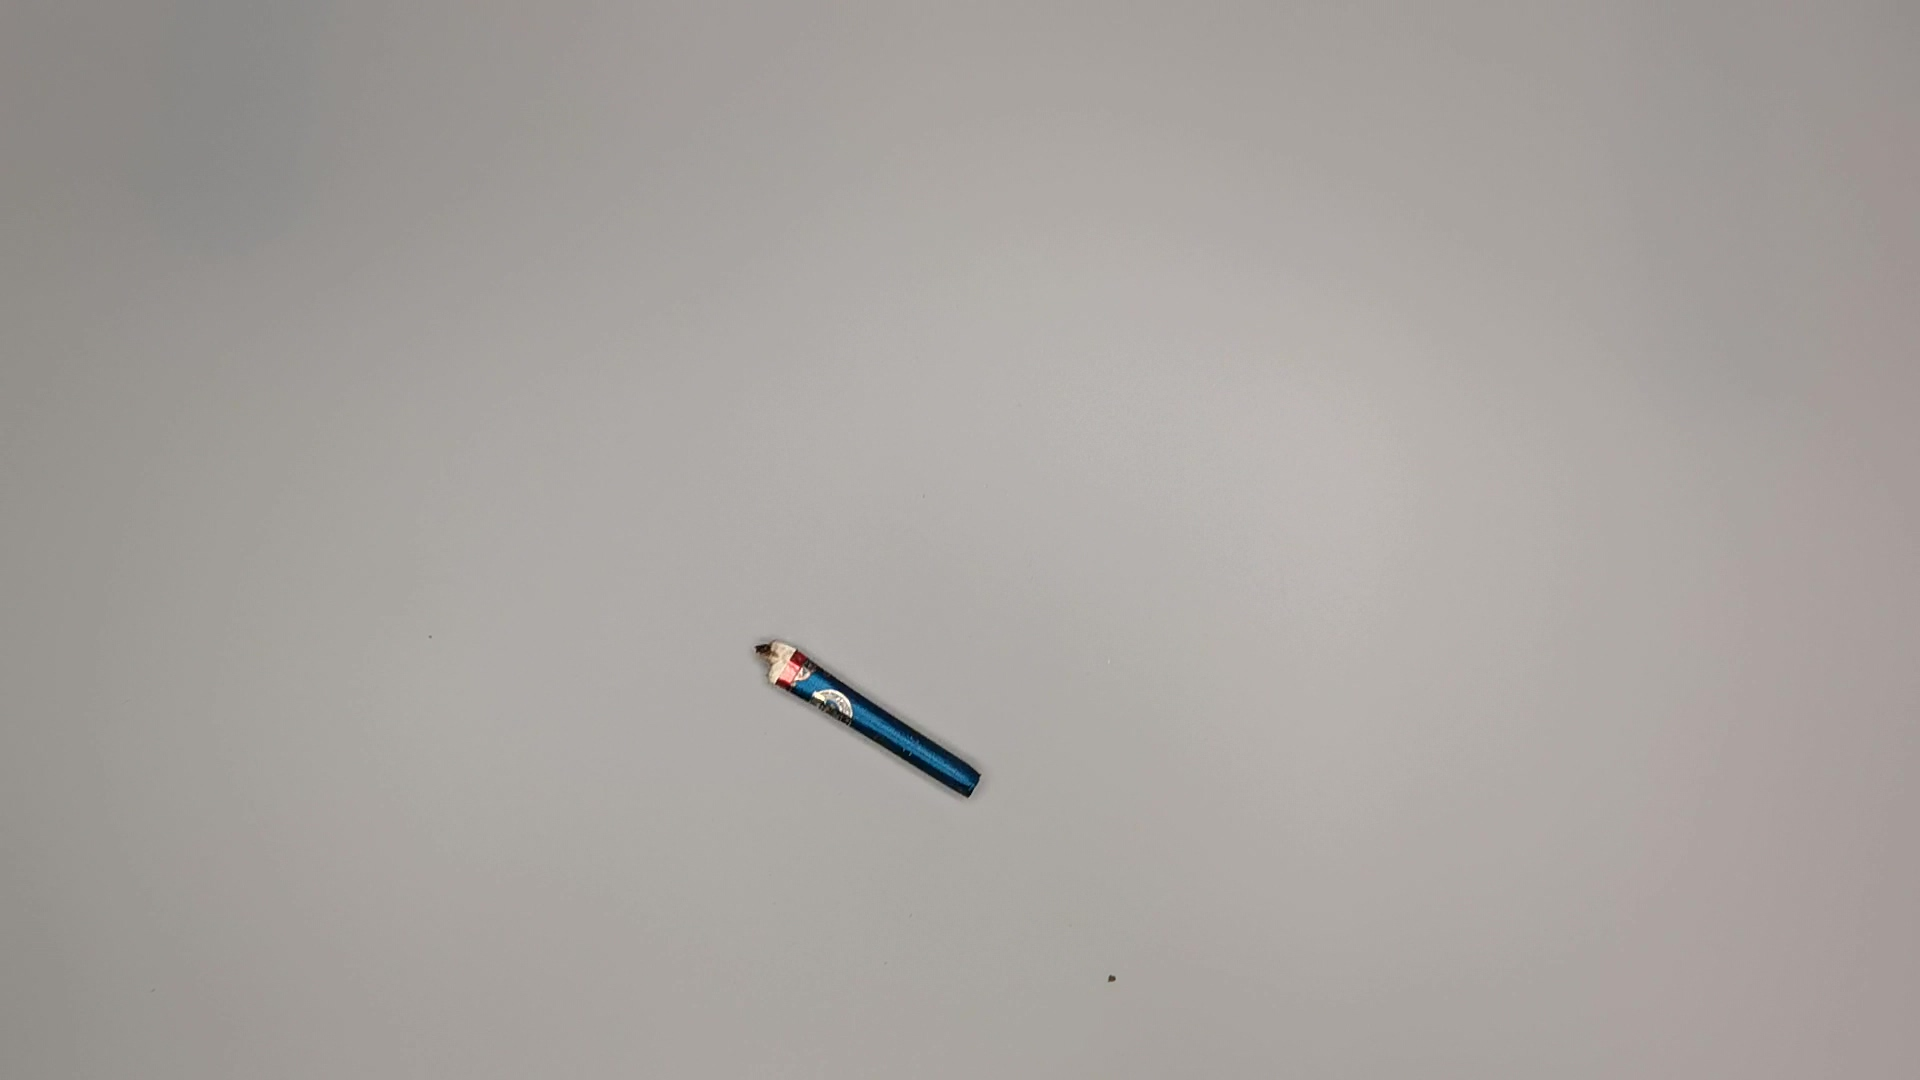cigarette: (745, 626, 996, 818)
